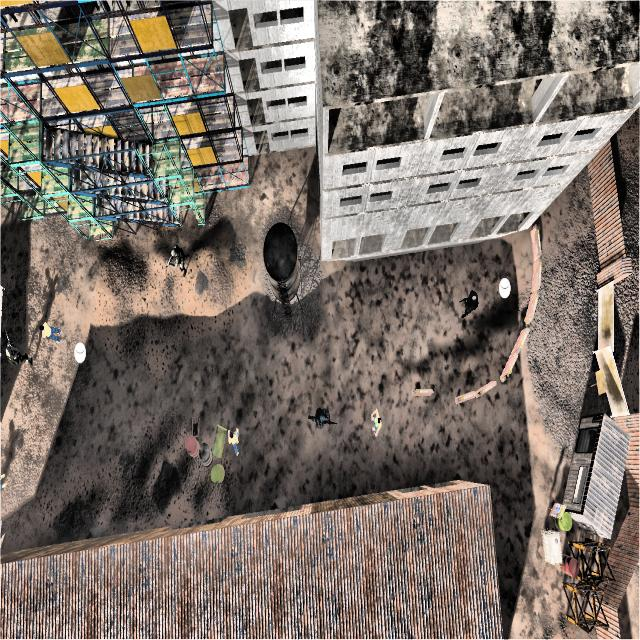bad: (3, 325, 34, 382), (450, 280, 485, 327), (160, 238, 190, 281), (301, 401, 337, 435)
good: (37, 306, 63, 354), (364, 401, 386, 443), (224, 419, 245, 460)
